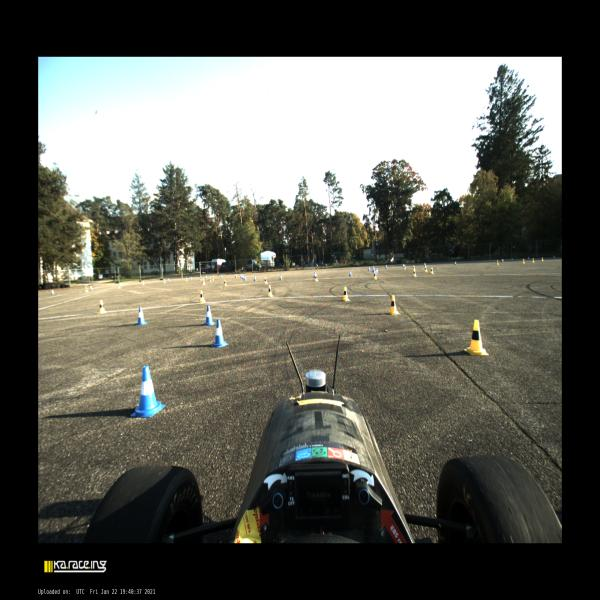blue_cone: (130, 366, 166, 417), (212, 320, 228, 347), (204, 305, 215, 326), (136, 307, 147, 325), (349, 270, 352, 276), (279, 274, 282, 280), (372, 266, 375, 272), (253, 276, 256, 281), (314, 272, 316, 278), (244, 275, 246, 281), (375, 269, 377, 275), (368, 266, 370, 272), (376, 268, 378, 273), (235, 274, 237, 278), (220, 274, 222, 278), (190, 276, 192, 280), (90, 286, 92, 290), (424, 263, 426, 266), (511, 258, 513, 261), (402, 264, 404, 267), (243, 275, 244, 280), (502, 258, 503, 262), (528, 256, 529, 260), (241, 274, 242, 278), (240, 274, 241, 278), (168, 278, 169, 282), (52, 290, 53, 294), (386, 265, 387, 268), (205, 276, 206, 279), (455, 262, 456, 264), (554, 256, 554, 258)
yellow_cone: (464, 320, 489, 355), (388, 295, 400, 315), (98, 300, 107, 313), (342, 287, 350, 301), (198, 290, 206, 302), (267, 285, 274, 297), (413, 269, 417, 277), (264, 277, 268, 284), (373, 272, 377, 279), (314, 274, 318, 281), (430, 268, 434, 274), (224, 280, 227, 286), (424, 266, 427, 272), (496, 260, 499, 265), (85, 287, 88, 292), (404, 264, 406, 270), (413, 265, 415, 271), (522, 259, 524, 264), (209, 277, 211, 282), (202, 280, 204, 285), (118, 283, 120, 288), (532, 258, 534, 262), (186, 277, 188, 281), (142, 281, 144, 285), (203, 279, 205, 283), (541, 258, 543, 261), (212, 276, 213, 281), (164, 279, 165, 283), (200, 277, 201, 280)
